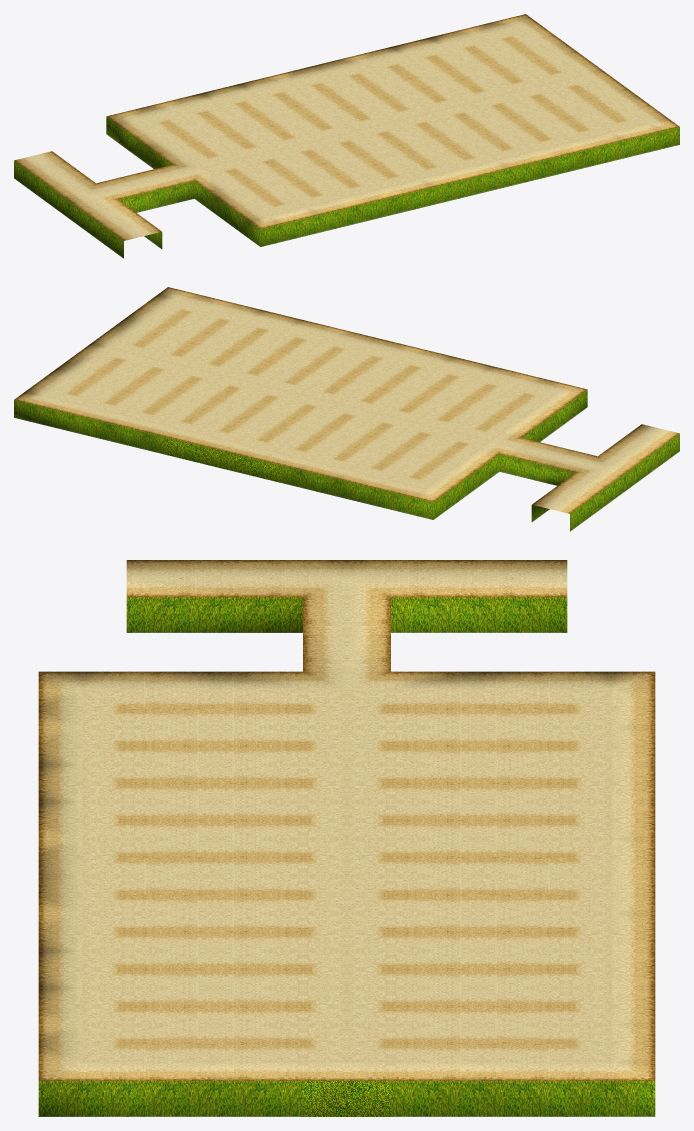
Rendered from parkeerplaats_1_1b.fbx.
The picture shows the model from 3 angles, top to bottom: view 1: azimuth 30°, elevation 25°; view 2: azimuth 150°, elevation 25°; view 3: azimuth 270°, elevation 25°; orthographic projection. The views are drawn at different scales.
Parts seen in each view (by area): view 1: parkeerplaats_1_1b; view 2: parkeerplaats_1_1b; view 3: parkeerplaats_1_1b.
Boxes of the visible parts, x1,y1,x2,y2 form: parkeerplaats_1_1b: [14, 14, 679, 258]; parkeerplaats_1_1b: [14, 287, 679, 531]; parkeerplaats_1_1b: [38, 560, 655, 1116].
Size of the model in its own units: 7000 by 226 by 3500.
